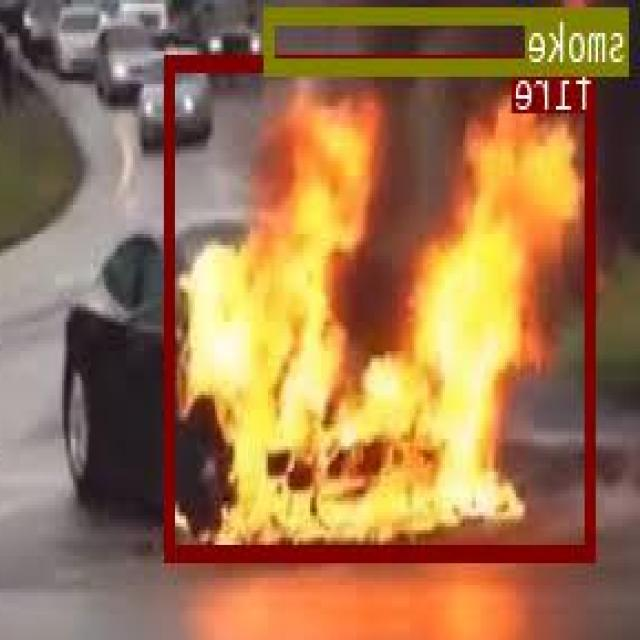fire: (167, 53, 597, 557)
smoke: (268, 5, 630, 72)
